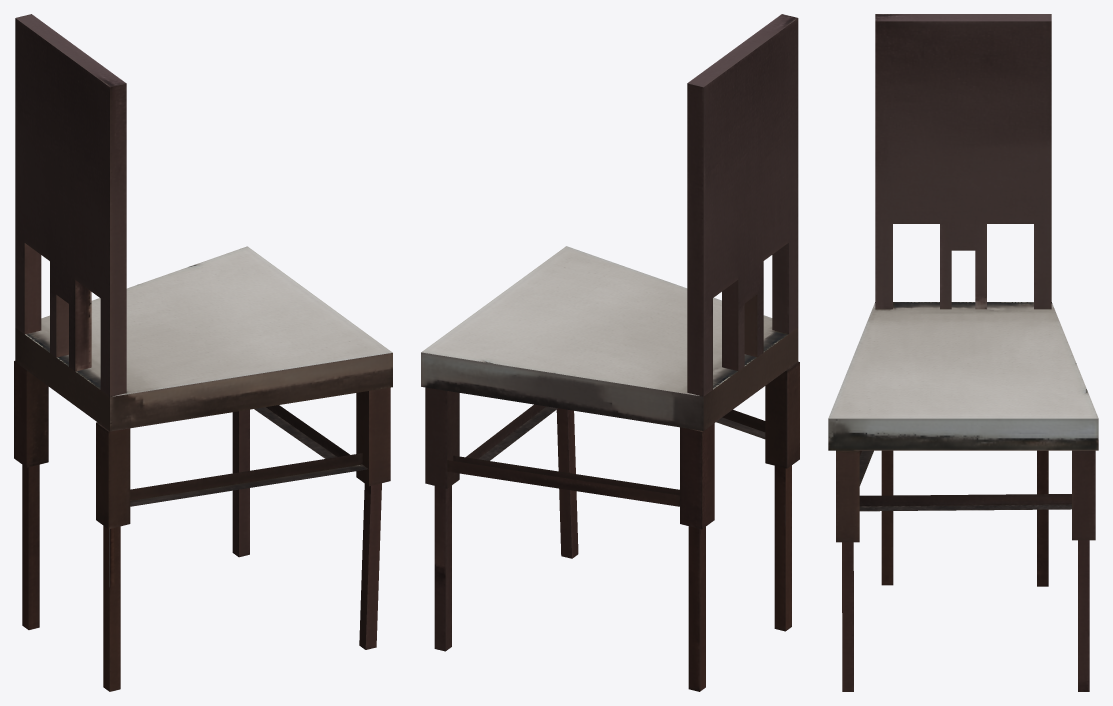
3 renders of one model, left to right at view 1: azimuth 30°, elevation 25°; view 2: azimuth 150°, elevation 25°; view 3: azimuth 270°, elevation 25°, orthographic. The views are drawn at different scales.
Visible parts, largest first — view 1: Node; view 2: Node; view 3: Node.
Part boxes in pixels (x1,y1,x2,y2): Node: (14,14,392,691); Node: (421,14,799,691); Node: (828,14,1098,691).
Size of the model in its own units: 0.3147 by 0.7 by 0.3038.
Materials: 1 (1 with a texture image).
